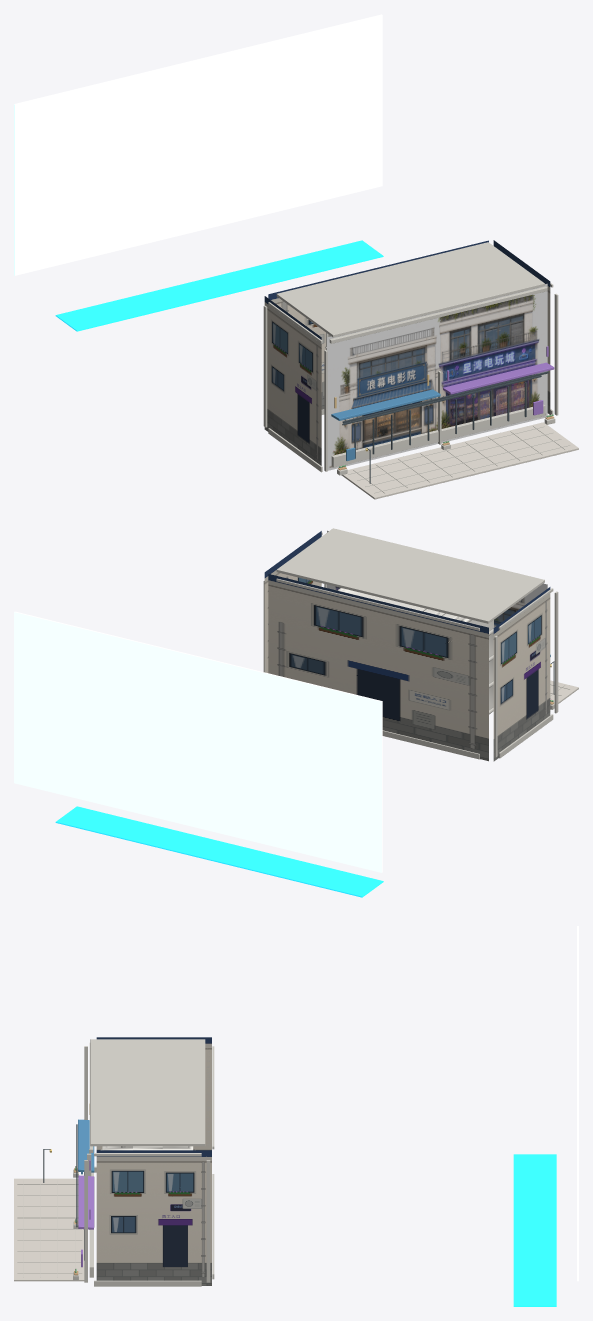
File: StarBay_KenneyArcadeCinemaBuildingJ_StickerPrototype_v1.fbx
3 renders of one model, top to bottom at view 1: azimuth 30°, elevation 25°; view 2: azimuth 150°, elevation 25°; view 3: azimuth 270°, elevation 25°, orthographic.
Parts seen in each view (by area): view 1: sticker_proto_sky_card, sticker_proto_front_facade_texture, sticker_proto_roof_slab, sticker_proto_sidewalk, sticker_proto_left_side_texture, sticker_proto_sea_strip, sticker_proto_front_stone_base_depth, sticker_proto_front_top_cap, sticker_proto_back_texture, sticker_proto_arcade_awning_depth, sticker_proto_cinema_awning_depth, sticker_proto_right_side_texture (+1 smaller); view 2: sticker_proto_sky_card, sticker_proto_back_texture, sticker_proto_roof_slab, sticker_proto_left_side_texture, sticker_proto_sea_strip, arcade_cinema_sticker_kenney_building_j_building-j, sticker_proto_right_side_texture, sticker_proto_back_roof_lip, sticker_proto_back_bottom_return, sticker_proto_side_front_corner_wrap_-1, sticker_proto_front_facade_texture, sticker_proto_side_back_corner_wrap_-1; view 3: sticker_proto_right_side_texture, sticker_proto_roof_slab, sticker_proto_sidewalk, sticker_proto_sea_strip, sticker_proto_left_side_texture, sticker_proto_side_bottom_return_1, sticker_proto_arcade_awning_depth, sticker_proto_sky_card, sticker_proto_cinema_awning_depth, sticker_proto_side_back_corner_wrap_1, sticker_proto_side_front_corner_wrap_1.
Part boxes in pixels (x1,y1,x2,y2): sticker_proto_sky_card: (14, 14, 382, 275); sticker_proto_front_facade_texture: (327, 283, 547, 470); sticker_proto_roof_slab: (276, 242, 544, 337); sticker_proto_sidewalk: (341, 422, 578, 499); sticker_proto_left_side_texture: (264, 296, 321, 465); sticker_proto_sea_strip: (55, 240, 383, 331); sticker_proto_front_stone_base_depth: (331, 404, 545, 467); sticker_proto_front_top_cap: (329, 286, 547, 343); sticker_proto_back_texture: (268, 240, 488, 409); sticker_proto_arcade_awning_depth: (443, 362, 554, 394); sticker_proto_cinema_awning_depth: (331, 389, 440, 420); sticker_proto_right_side_texture: (493, 240, 550, 414); sticker_proto_sky_card: (14, 611, 382, 872); sticker_proto_back_texture: (268, 574, 488, 761); sticker_proto_roof_slab: (276, 528, 544, 623); sticker_proto_left_side_texture: (493, 587, 550, 761); sticker_proto_sea_strip: (55, 806, 383, 897); arcade_cinema_sticker_kenney_building_j_building-j: (337, 588, 494, 714); sticker_proto_right_side_texture: (264, 531, 321, 672); sticker_proto_back_roof_lip: (276, 578, 479, 630); sticker_proto_back_bottom_return: (382, 730, 479, 759); sticker_proto_side_front_corner_wrap_-1: (554, 591, 558, 713); sticker_proto_front_facade_texture: (327, 530, 547, 627); sticker_proto_side_back_corner_wrap_-1: (494, 635, 497, 757); sticker_proto_right_side_texture: (96, 1150, 211, 1285); sticker_proto_roof_slab: (90, 1039, 205, 1146); sticker_proto_sidewalk: (14, 1178, 84, 1281); sticker_proto_sea_strip: (513, 1154, 556, 1306); sticker_proto_left_side_texture: (96, 1037, 211, 1150); sticker_proto_side_bottom_return_1: (94, 1280, 201, 1286); sticker_proto_arcade_awning_depth: (78, 1175, 94, 1229); sticker_proto_sky_card: (577, 926, 578, 1281); sticker_proto_cinema_awning_depth: (78, 1119, 94, 1172); sticker_proto_side_back_corner_wrap_1: (206, 1160, 210, 1282); sticker_proto_side_front_corner_wrap_1: (84, 1160, 87, 1282).
Bounding box in the file's own units: 1800 × 989 × 2364.
19 materials, 4 textured.
